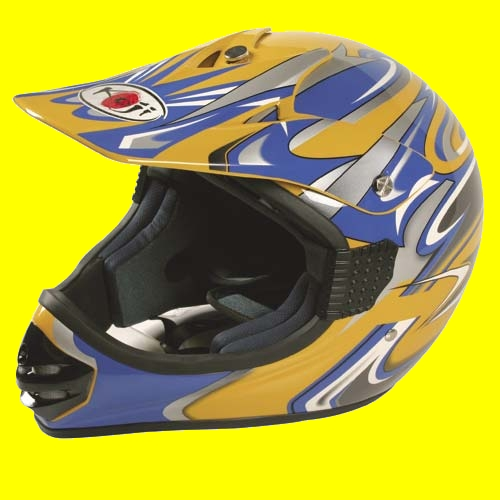helmet: (12, 30, 468, 407)
